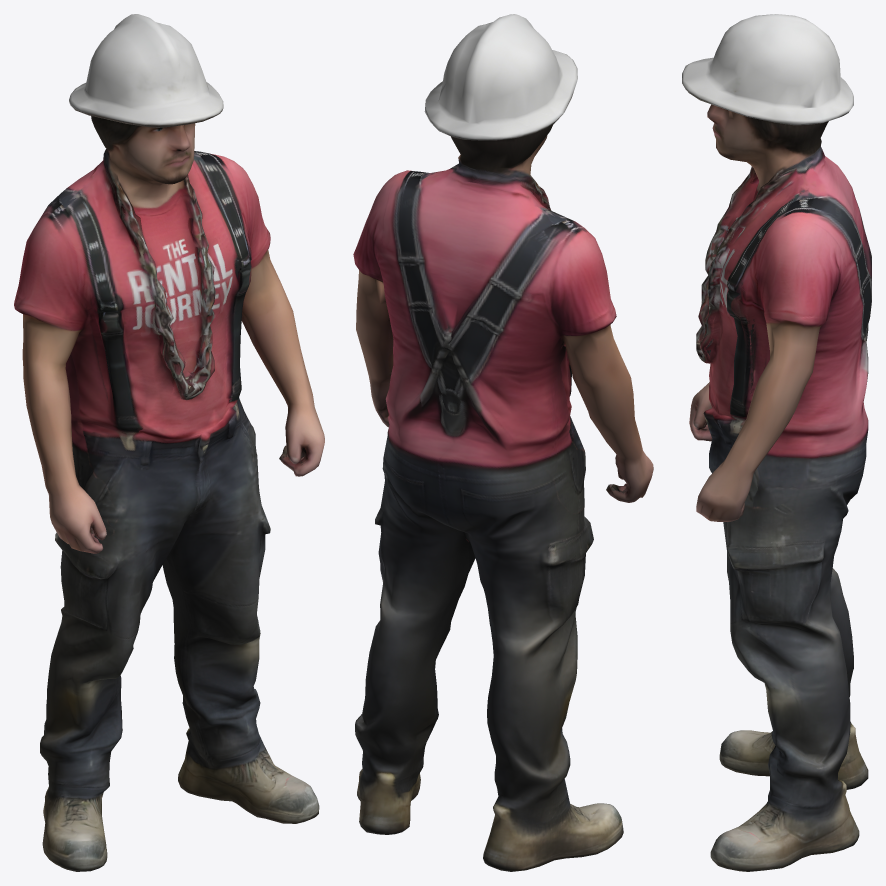
The model's file is The_Rental_Journey_Person_6FtTall_0208185630_texture.glb.
3 views of the same model, side by side, from view 1: azimuth 30°, elevation 25°; view 2: azimuth 150°, elevation 25°; view 3: azimuth 270°, elevation 25° (orthographic). The views are drawn at different scales.
Visible parts, largest first — view 1: Mesh_0; view 2: Mesh_0; view 3: Mesh_0.
Boxes of the visible parts, box(x1,y1,x2,y2) form: Mesh_0: box(14, 14, 324, 871); Mesh_0: box(353, 14, 653, 871); Mesh_0: box(682, 14, 871, 871).
Bounding box in the file's own units: 0.6421 × 1.83 × 0.3981.
Materials: 1 (1 with a texture image).
